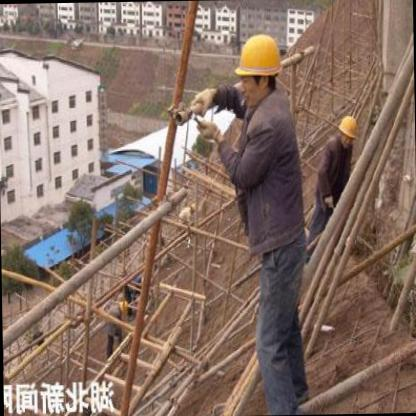helmet: (231, 26, 287, 110), (333, 110, 358, 152)
